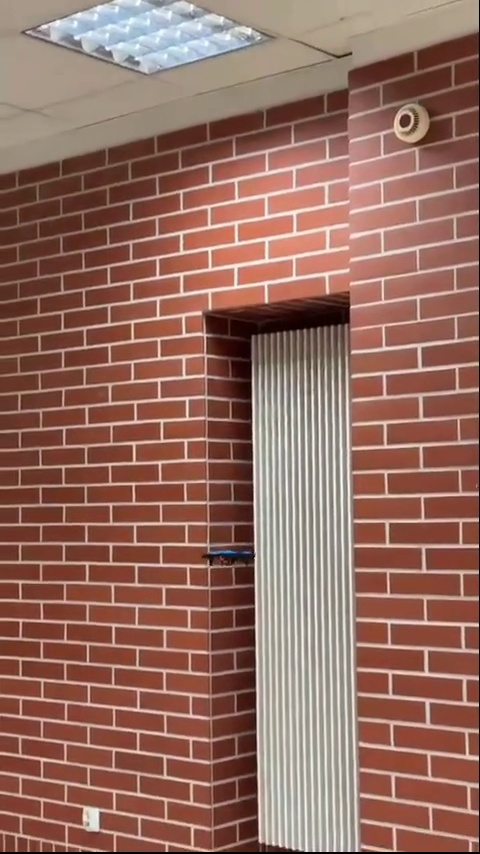drone: (199, 544, 263, 570)
